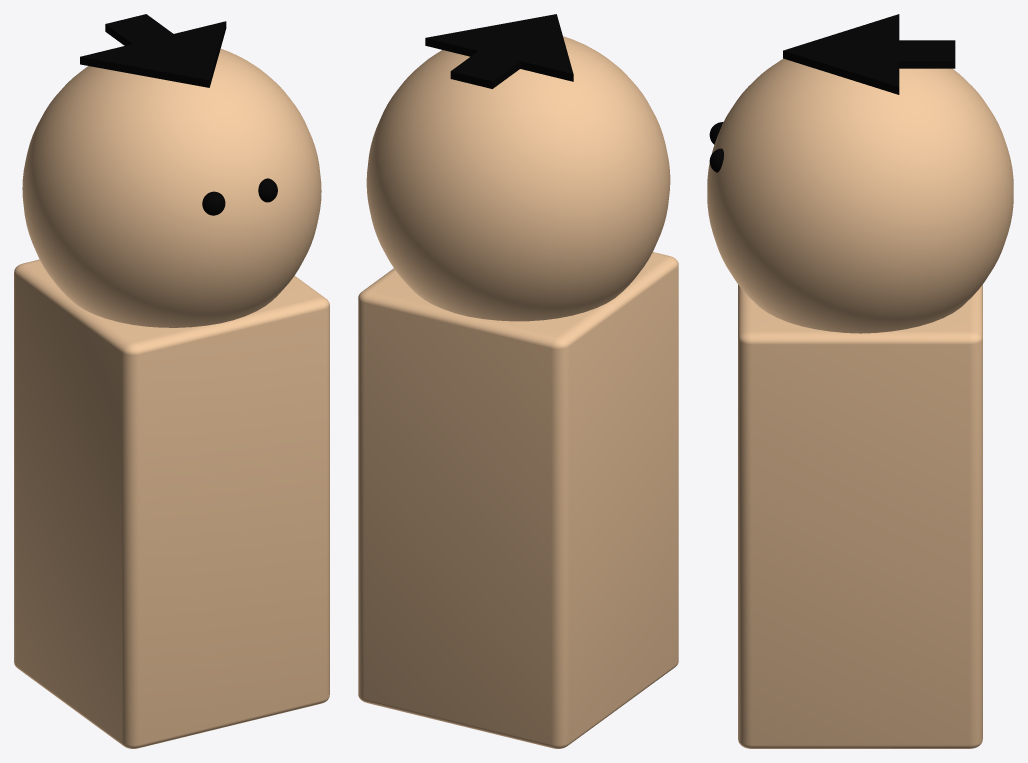
Rendered from 6newb.obj.
The picture shows the model from 3 angles, left to right: view 1: azimuth 30°, elevation 25°; view 2: azimuth 150°, elevation 25°; view 3: azimuth 270°, elevation 25°; orthographic projection. The views are drawn at different scales.
Parts seen in each view (by area): view 1: Curve.004_Curve.007, Curve.004_Curve.008_Curve.004_Curve.001; view 2: Curve.004_Curve.007, Curve.004_Curve.008_Curve.004_Curve.001; view 3: Curve.004_Curve.007, Curve.004_Curve.008_Curve.004_Curve.001.
Boxes of the visible parts, box(x1,y1,x2,y2) form: Curve.004_Curve.007: box(14, 49, 329, 748); Curve.004_Curve.008_Curve.004_Curve.001: box(80, 14, 277, 215); Curve.004_Curve.007: box(358, 36, 678, 748); Curve.004_Curve.008_Curve.004_Curve.001: box(425, 14, 573, 88); Curve.004_Curve.007: box(707, 58, 1013, 748); Curve.004_Curve.008_Curve.004_Curve.001: box(709, 14, 955, 172).
Bounding box in the file's own units: 0.2062 × 0.4815 × 0.2057.
